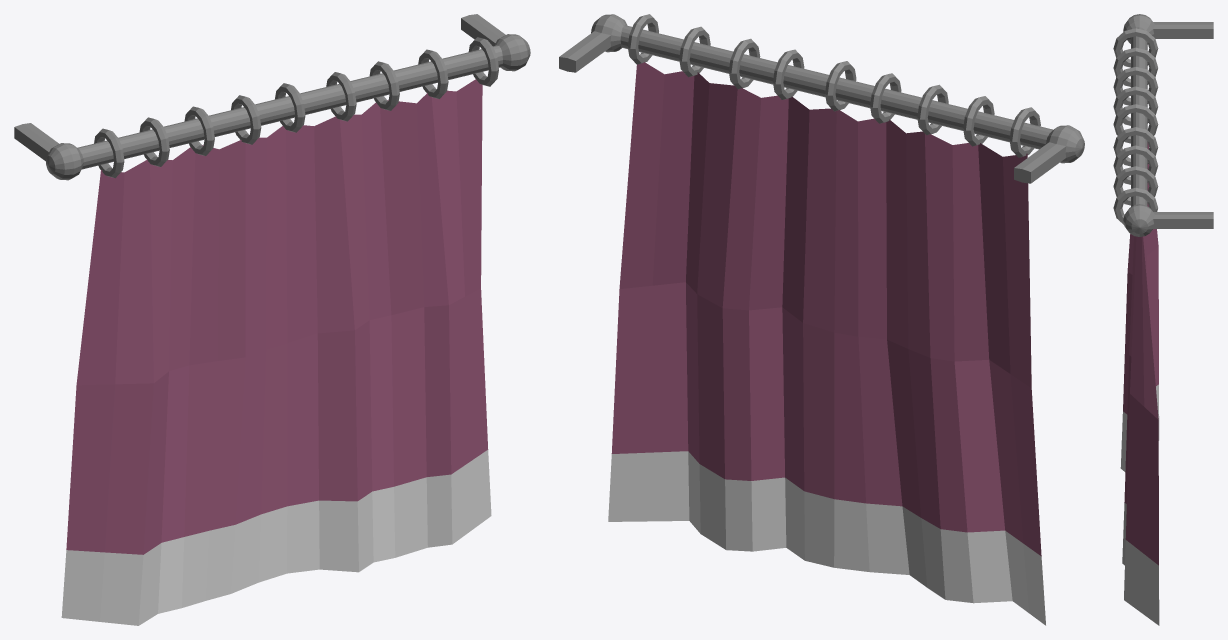
Rendered from Corina Baño Chica.fbx.
3 views of the same model, side by side, from view 1: azimuth 30°, elevation 25°; view 2: azimuth 150°, elevation 25°; view 3: azimuth 270°, elevation 25° (orthographic). The views are drawn at different scales.
Parts seen in each view (by area): view 1: Cortina pieza chico.015; view 2: Cortina pieza chico.015; view 3: Cortina pieza chico.015.
Boxes of the visible parts, x1,y1,x2,y2 form: Cortina pieza chico.015: (14,14,530,625); Cortina pieza chico.015: (559,14,1084,625); Cortina pieza chico.015: (1113,14,1213,625).
Size of the model in its own units: 86.49 by 86.59 by 17.94.
